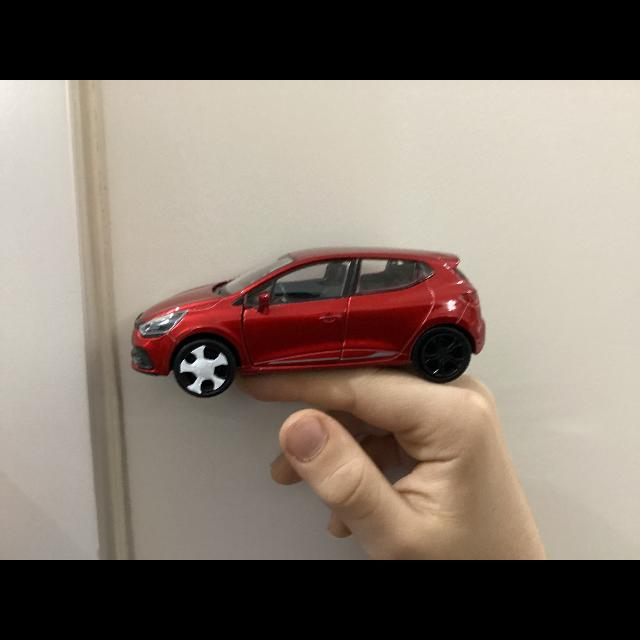Dogru_Jant: (421, 332, 465, 376)
Yanlis_Jant: (178, 344, 230, 396)
